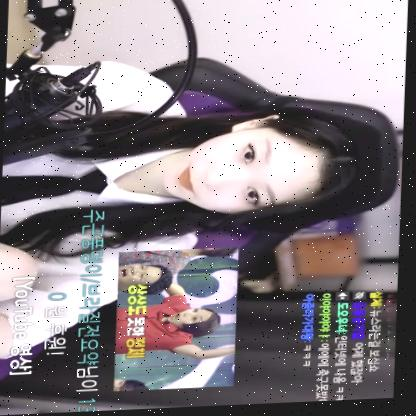donation: (8, 204, 242, 415)
streamer: (0, 53, 391, 360)
